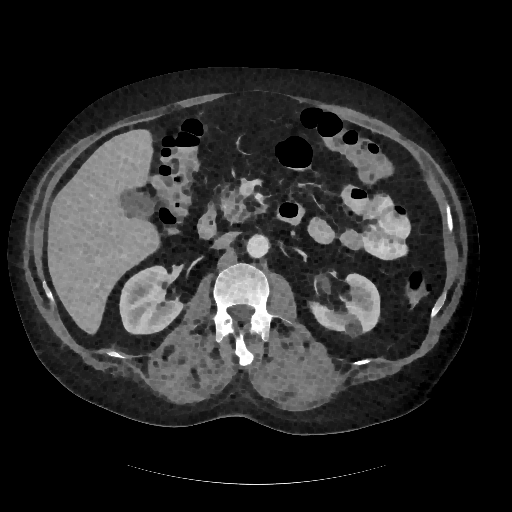Lesion: (343, 315, 364, 340)
